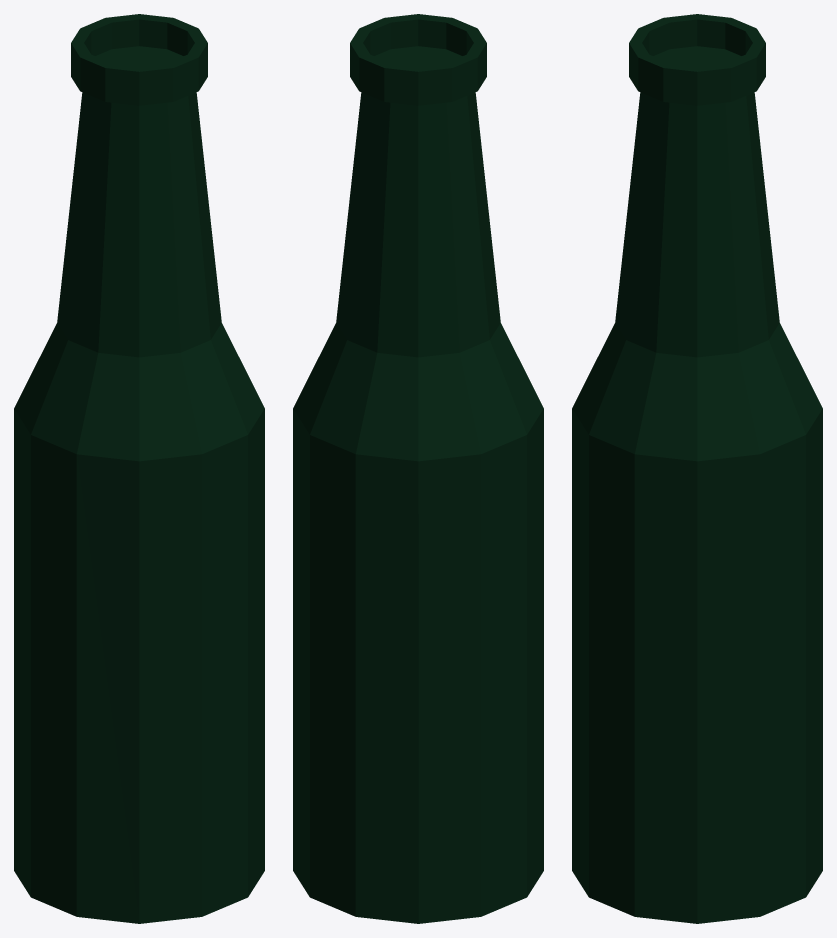
The model's file is bottle2.fbx.
The picture shows the model from 3 angles, left to right: view 1: azimuth 30°, elevation 25°; view 2: azimuth 150°, elevation 25°; view 3: azimuth 270°, elevation 25°; orthographic projection.
Parts seen in each view (by area): view 1: bottle2; view 2: bottle2; view 3: bottle2.
Boxes of the visible parts, x1,y1,x2,y2 form: bottle2: (14,14,264,923); bottle2: (293,14,543,923); bottle2: (572,14,822,923).
Size of the model in its own units: 8.59 by 31.28 by 8.59.
